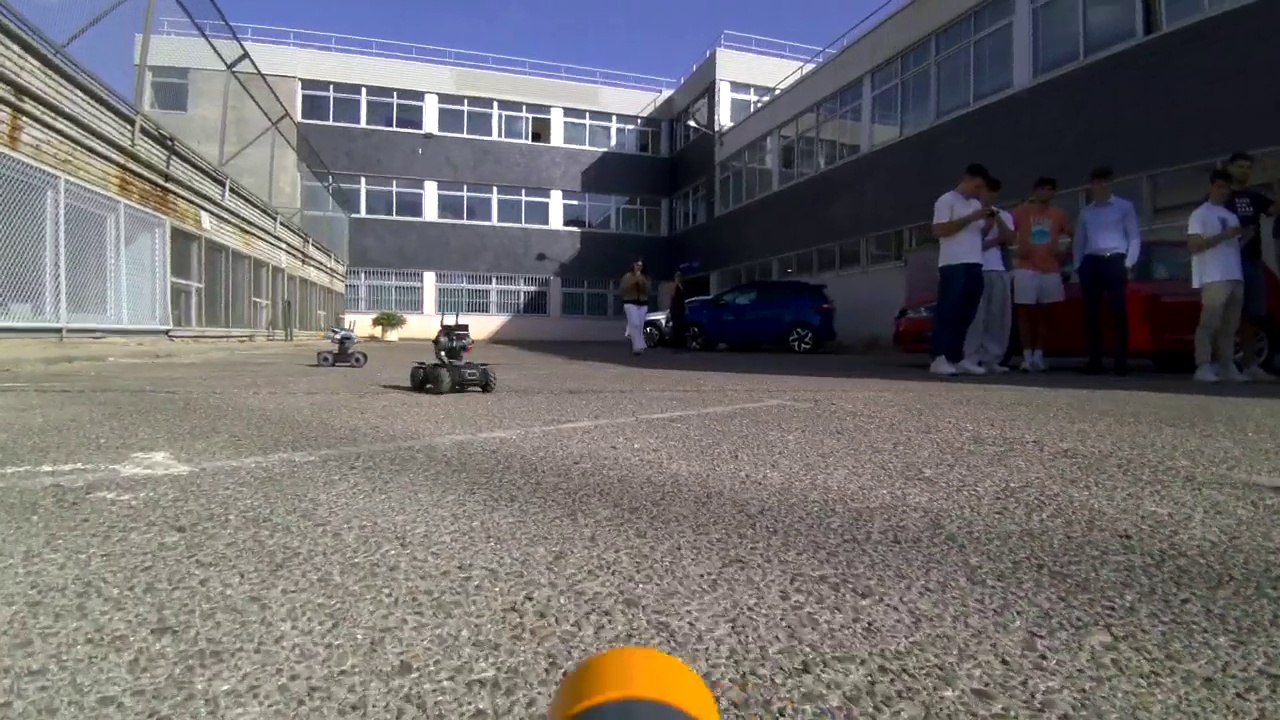robot: (403, 310, 500, 392), (312, 320, 367, 374)
